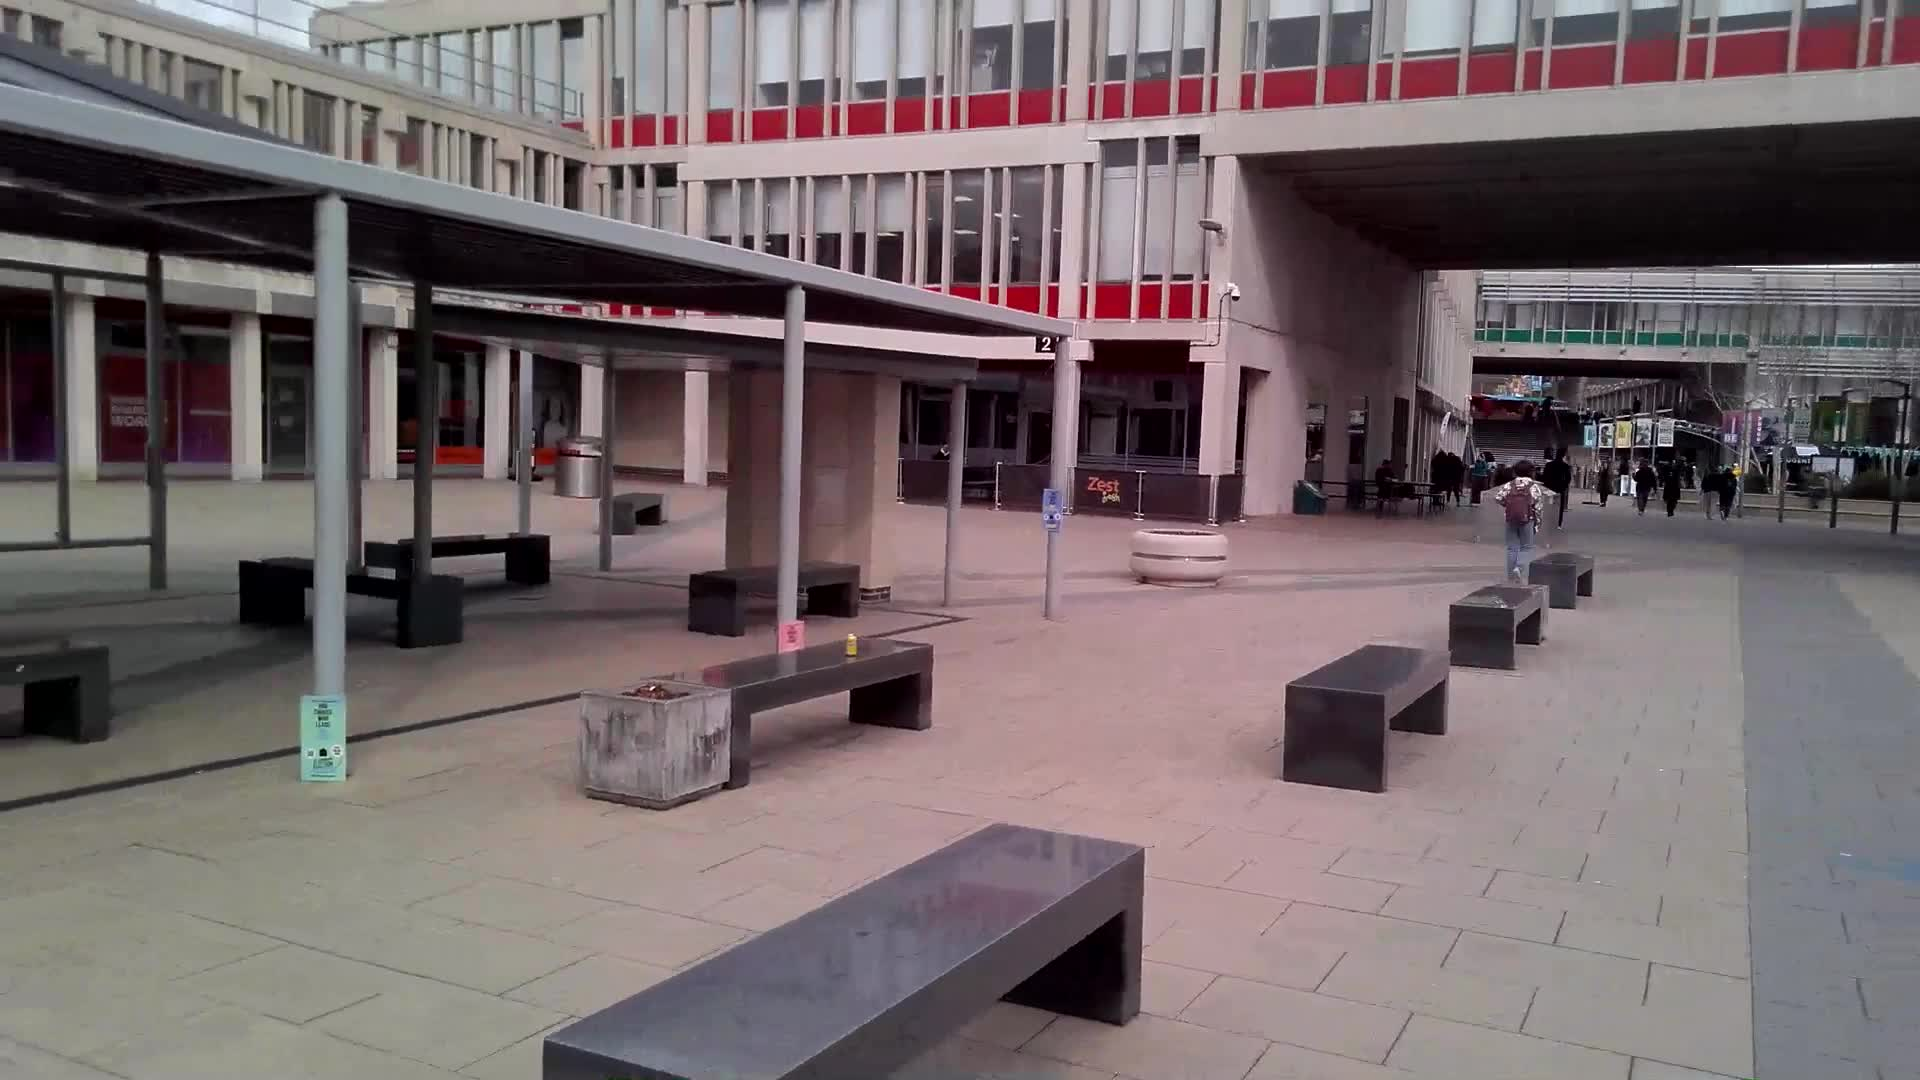Backpack: (1504, 483, 1537, 537)
Bench: (542, 818, 1146, 1080), (581, 638, 934, 799), (1288, 646, 1448, 794), (680, 562, 862, 637), (1452, 587, 1550, 677), (1524, 550, 1602, 599)
Person: (1497, 461, 1544, 586)
